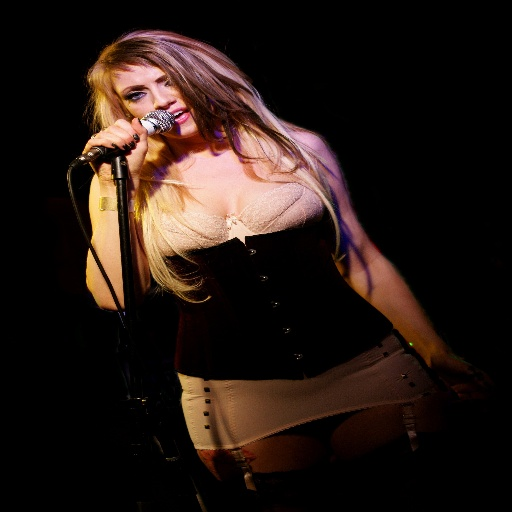hand: (427, 349, 497, 405), (80, 112, 138, 157)
